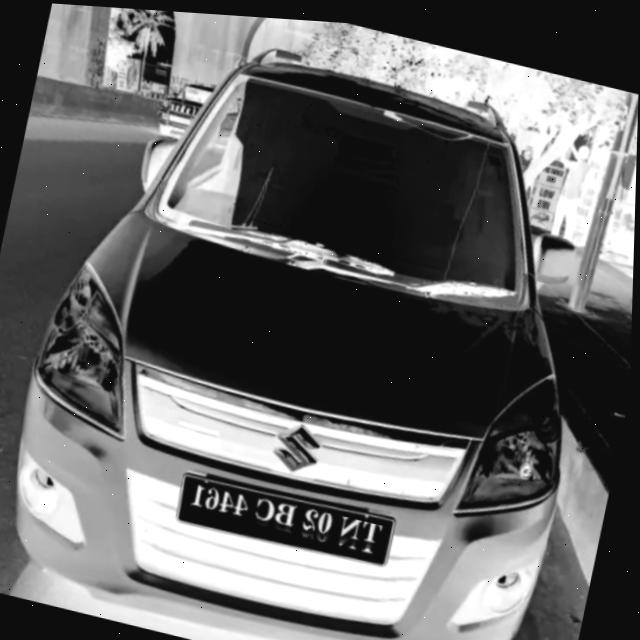Non_registered: (183, 475, 393, 558)
